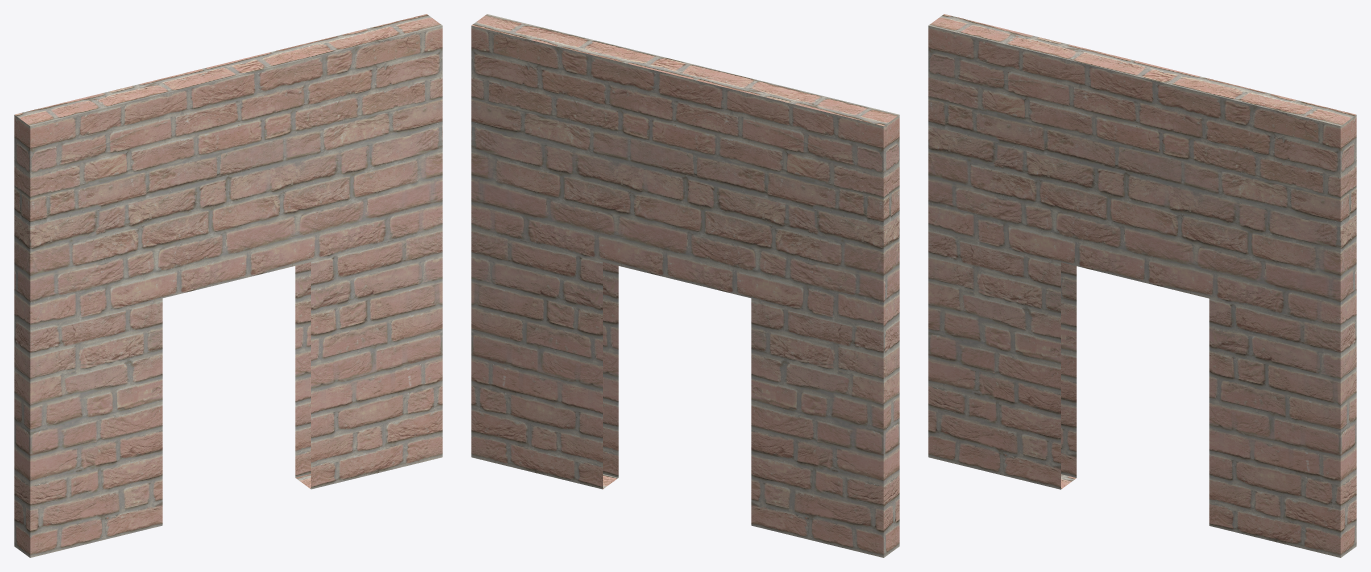
File: Wall_Hole.fbx
3 views of the same model, side by side, from view 1: azimuth 30°, elevation 25°; view 2: azimuth 150°, elevation 25°; view 3: azimuth 330°, elevation 25° (orthographic).
Visible parts, largest first — view 1: Wall_Hole; view 2: Wall_Hole; view 3: Wall_Hole.
Part boxes in pixels (x1,y1,x2,y2): Wall_Hole: [14, 14, 442, 557]; Wall_Hole: [471, 14, 899, 557]; Wall_Hole: [928, 14, 1356, 557].
Bounding box in the file's own units: 300 × 300 × 20.
1 material, 1 textured.
